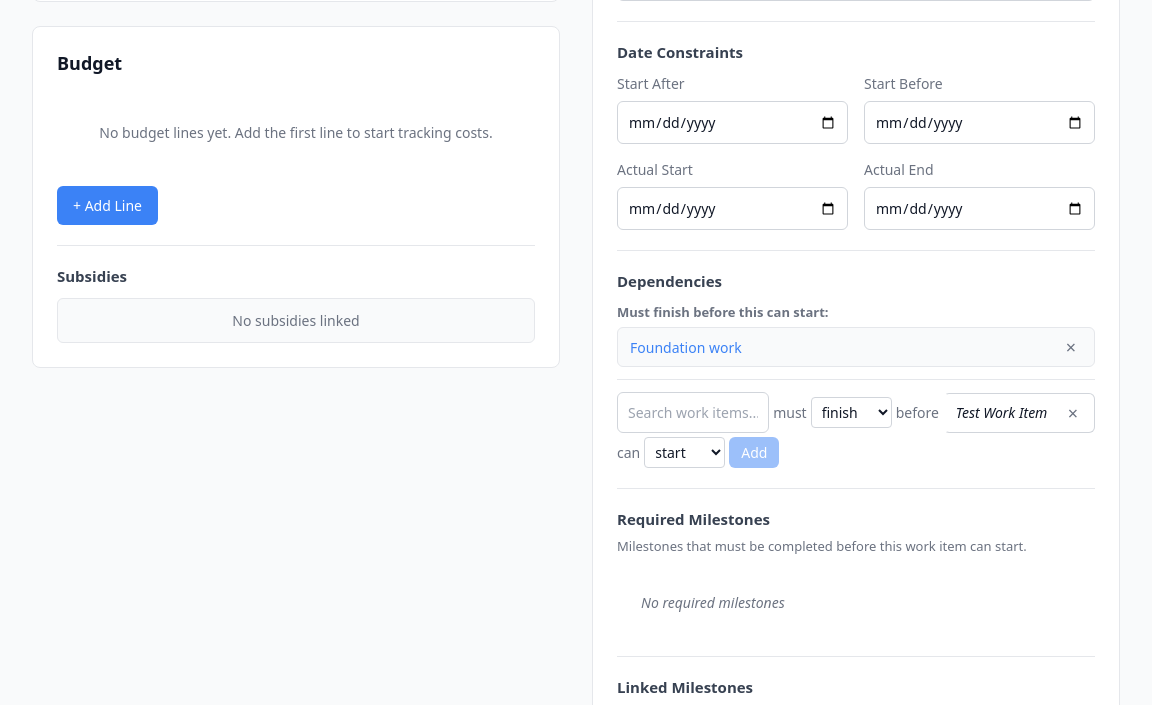
Test: WorkItemDetailPage › modals and action labels (Issue #1812) › opens the remove-dependency modal with the predecessor sentence (no duplicated "cannot be undone" text)
The image size is (1152, 705).
(page scrolled)
Expected: the link "Foundation work" is shown, [630, 338, 742, 356]
Click the button named "Remove dependency on Foundation work" at {"x": 1071, "y": 347}, box [1060, 336, 1082, 358]
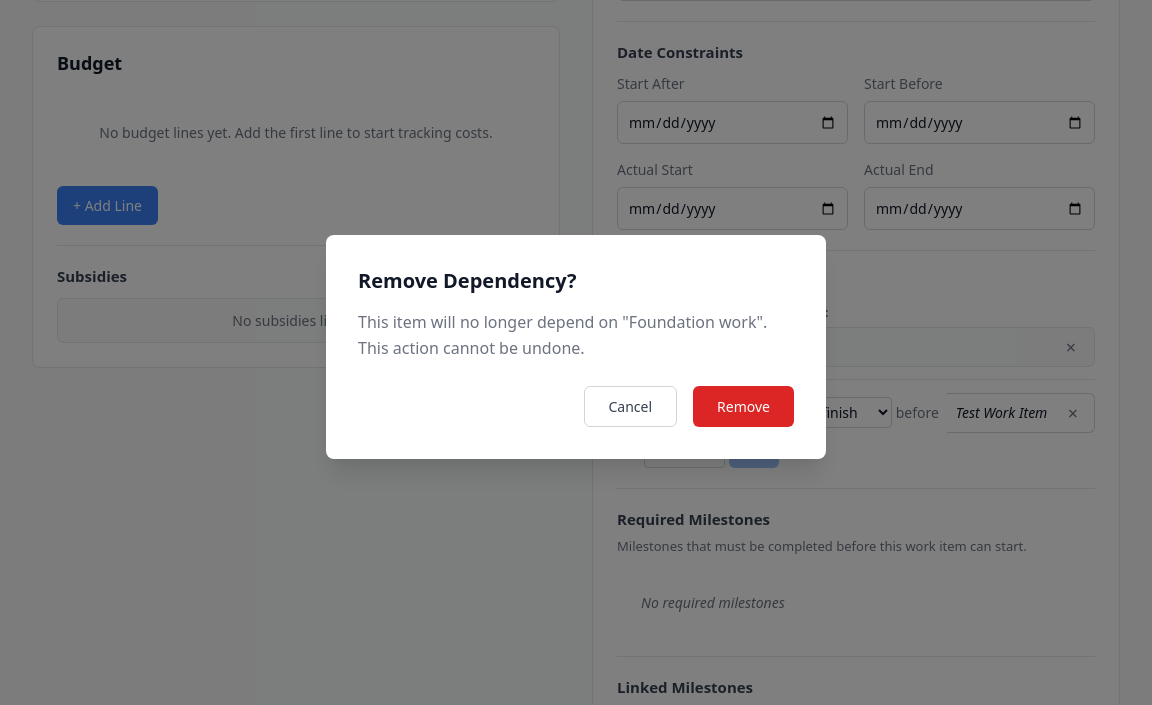
Expected: the heading "Remove Dependency?" is shown, [358, 267, 576, 294]
Expected: the text "This item will no longer depend on \"Foundation work\". This action cannot be undone." is shown, [358, 311, 767, 359]
Expected: the text "This action cannot be undone." is shown once, [358, 310, 794, 362]
Click the button "Cancel" at {"x": 630, "y": 406}, box [584, 386, 677, 427]
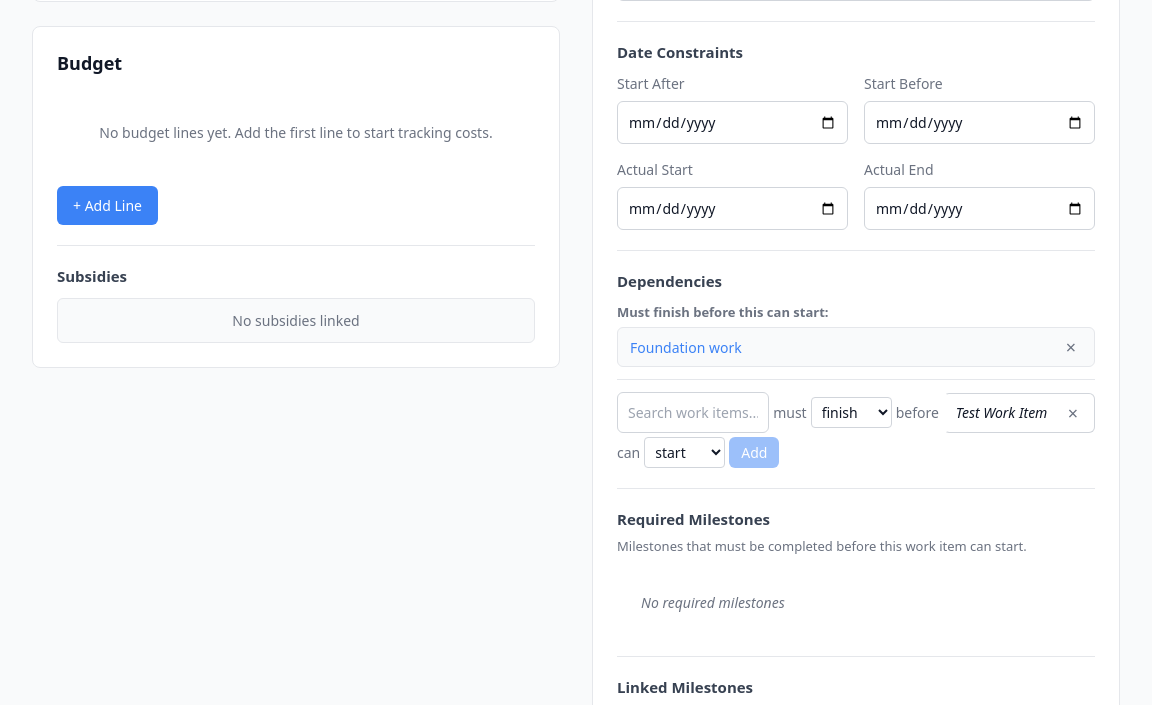
Expected: the heading "Remove Dependency?" is gone
